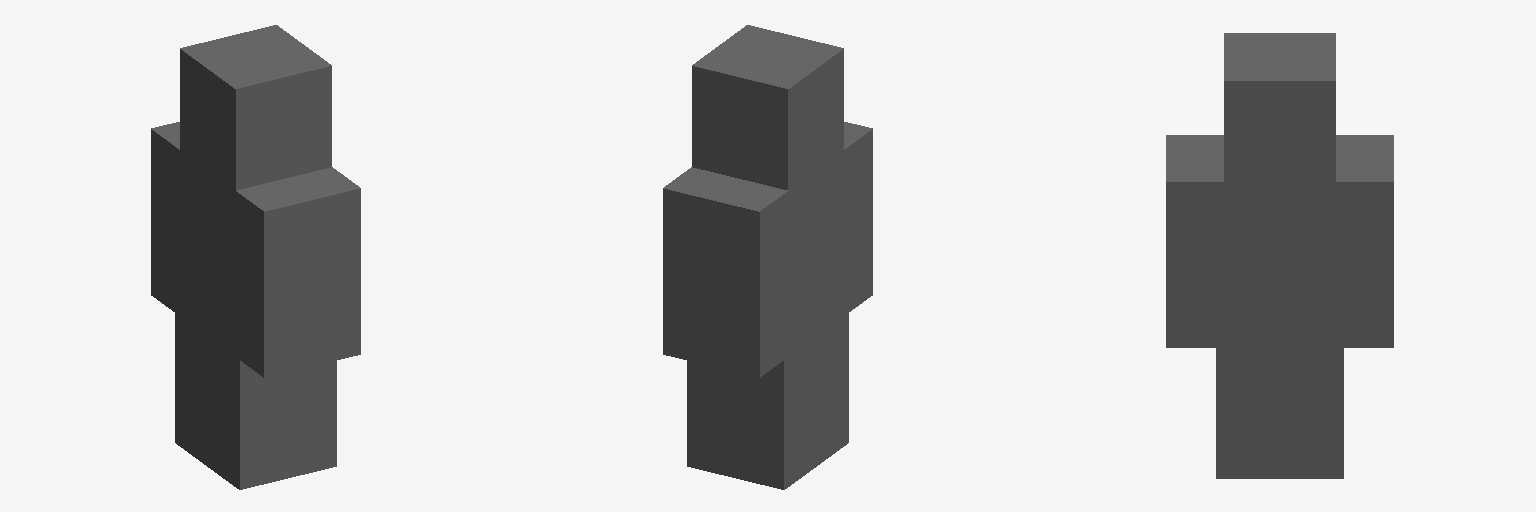
File: player_model.obj
The picture shows the model from 3 angles: view 1: azimuth 30°, elevation 25°; view 2: azimuth 150°, elevation 25°; view 3: azimuth 270°, elevation 25°; orthographic projection.
Visible parts, largest first — view 1: player; view 2: player; view 3: player.
Boxes of the visible parts, x1,y1,x2,y2 form: player: [151, 25, 360, 489]; player: [663, 25, 872, 489]; player: [1166, 33, 1393, 478].
Size of the model in its own units: 1 by 3.92 by 2.03.